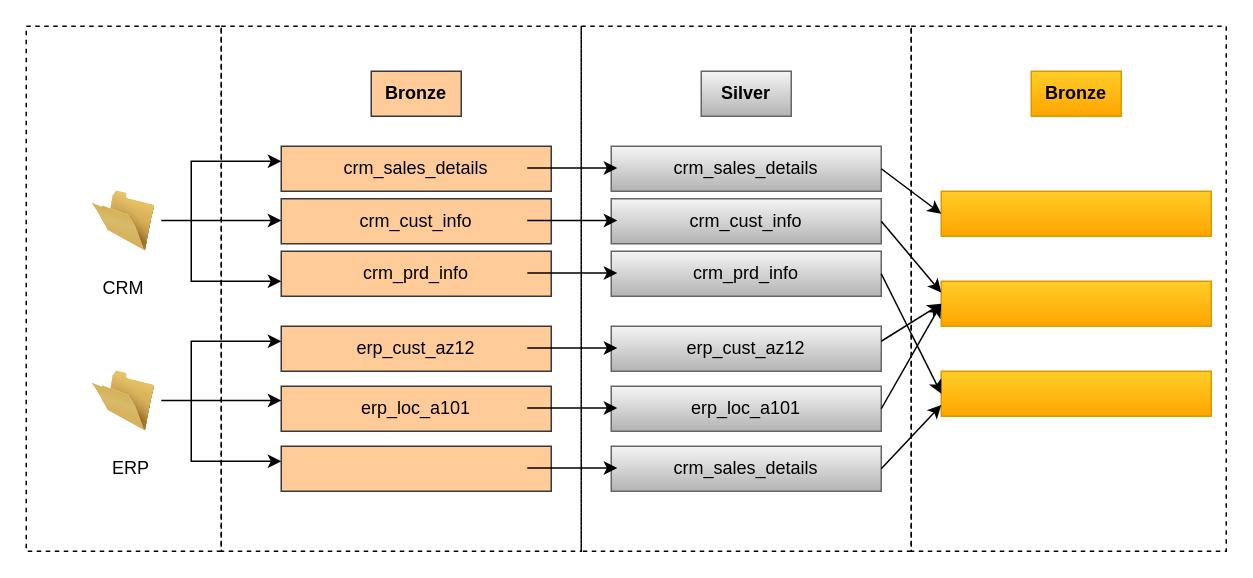
This 1253x578 diagram has some shape labels left out. Here are the shapes that lost their labels. From the top down, the centre of each, then its label:
At pixel 1075 213: "fact_sales".
At pixel 1075 303: "dim_customers".
At pixel 1075 393: "dim_product".
At pixel 415 468: "erp_px_cat_g1v2".
